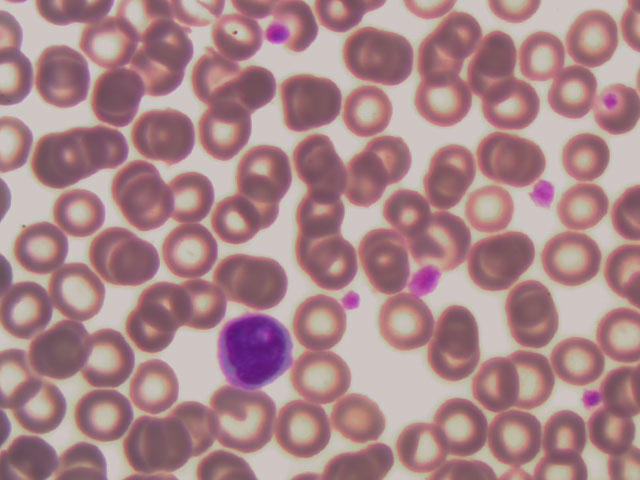Platelets: (407, 264, 446, 300), (528, 177, 560, 206), (263, 20, 292, 49), (338, 286, 363, 313), (580, 386, 601, 408)
RBC: (32, 44, 94, 105), (86, 66, 148, 127), (132, 106, 194, 167), (70, 117, 132, 178), (20, 132, 82, 193), (53, 183, 115, 244), (8, 219, 70, 280), (52, 261, 114, 322), (1, 271, 63, 332), (32, 320, 94, 381), (73, 330, 135, 391), (78, 383, 140, 444), (4, 375, 66, 436), (3, 419, 65, 480), (59, 419, 121, 480), (124, 419, 186, 480), (158, 399, 220, 460), (123, 350, 185, 411), (120, 291, 182, 352), (147, 267, 209, 328), (170, 279, 232, 340), (164, 217, 226, 278), (95, 223, 157, 284), (121, 165, 183, 226), (157, 165, 219, 226), (214, 189, 276, 250), (235, 169, 297, 230), (234, 146, 296, 207), (198, 95, 260, 156), (215, 63, 277, 124), (191, 47, 253, 108), (138, 16, 200, 77), (138, 46, 200, 107), (81, 13, 143, 74), (286, 70, 348, 131), (288, 135, 350, 196), (299, 180, 361, 241), (294, 225, 356, 286), (351, 234, 413, 295), (371, 187, 433, 248), (338, 149, 400, 210), (361, 124, 423, 185), (343, 81, 405, 142), (351, 22, 413, 83), (415, 66, 477, 127), (410, 26, 472, 87), (436, 5, 498, 66), (482, 67, 544, 128), (469, 33, 531, 94), (510, 27, 572, 88), (564, 6, 626, 67), (538, 62, 600, 123), (584, 83, 640, 141), (560, 123, 616, 181), (487, 130, 543, 188), (429, 145, 485, 203), (466, 177, 522, 235), (415, 211, 471, 269), (471, 229, 527, 287), (503, 283, 559, 341), (544, 230, 600, 288), (558, 179, 614, 237), (549, 326, 605, 384), (506, 351, 562, 409), (470, 359, 526, 417), (426, 329, 482, 387), (377, 291, 433, 349), (436, 397, 492, 455), (482, 404, 538, 462), (539, 410, 595, 468), (582, 405, 638, 463), (393, 416, 448, 474), (333, 388, 388, 446), (295, 352, 350, 410), (290, 293, 345, 351), (235, 256, 290, 314), (273, 400, 328, 458), (215, 391, 270, 449)
WBC: (215, 311, 299, 391)
